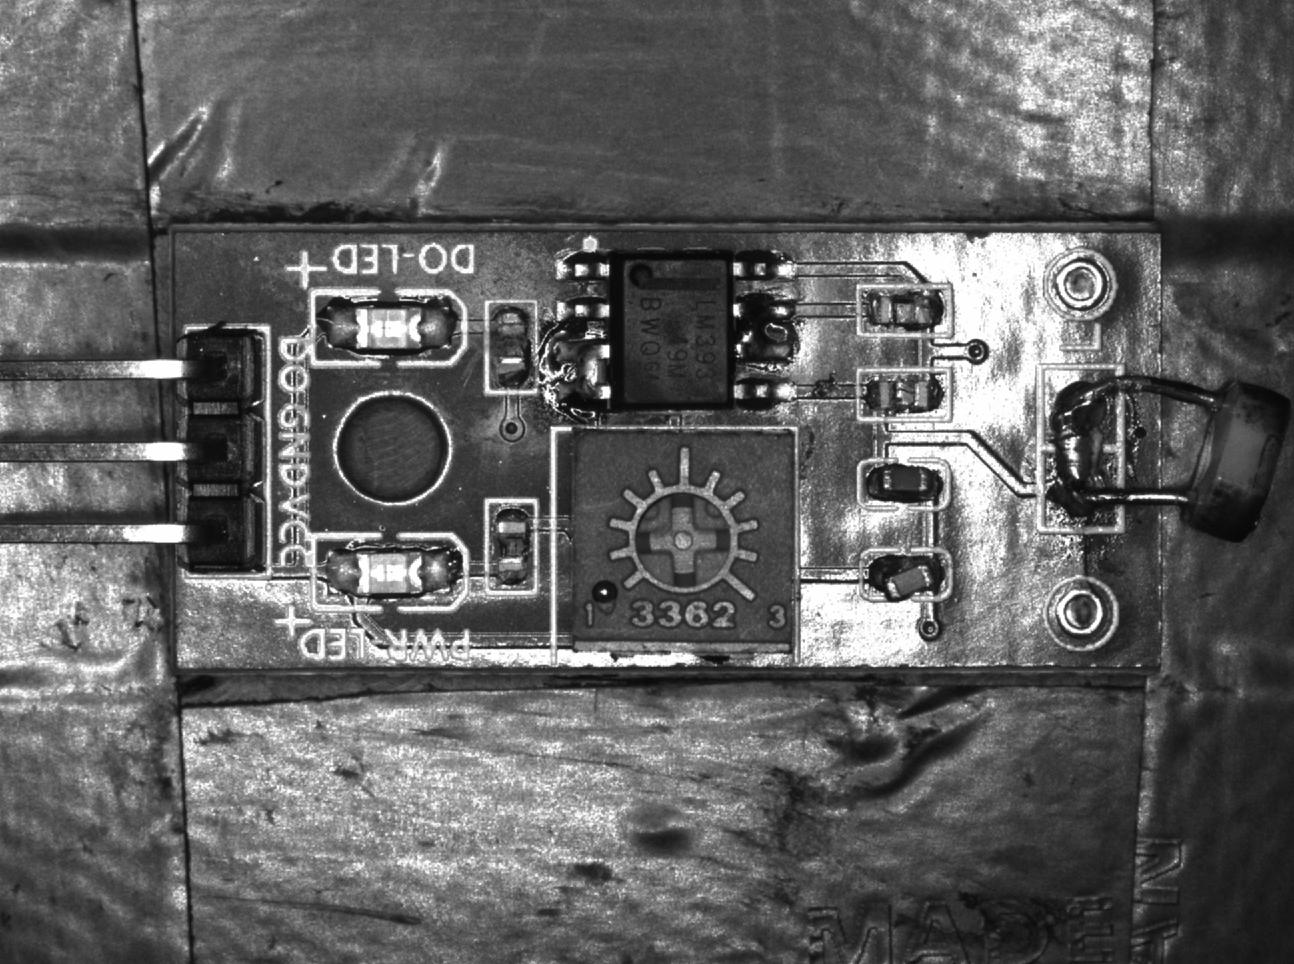bridge: (1038, 367, 1124, 531), (734, 291, 799, 366), (550, 333, 613, 410)
lifted: (860, 549, 954, 604)
miss: (856, 284, 951, 340), (855, 370, 954, 420), (484, 303, 539, 393), (485, 500, 538, 591)
ok: (855, 458, 946, 516)
